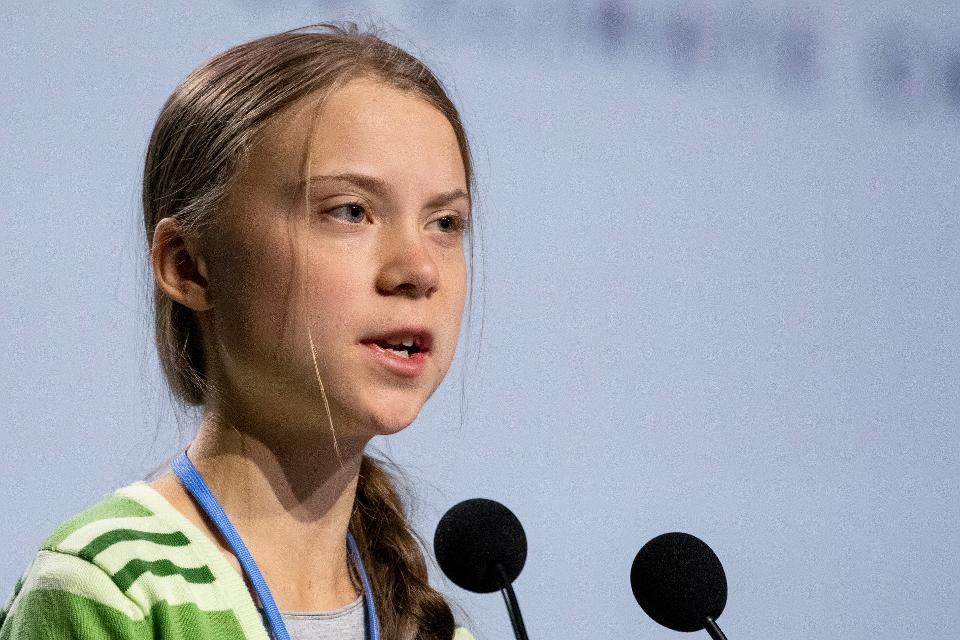noMask: (112, 20, 491, 465)
